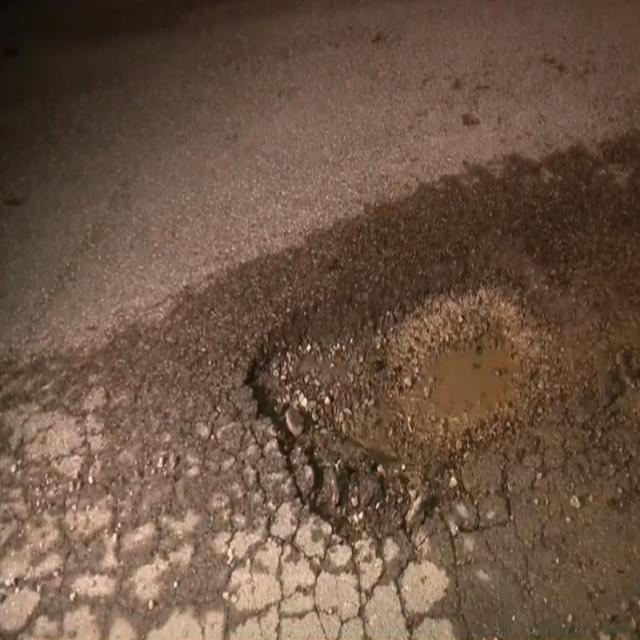pothole: (253, 293, 539, 507)
